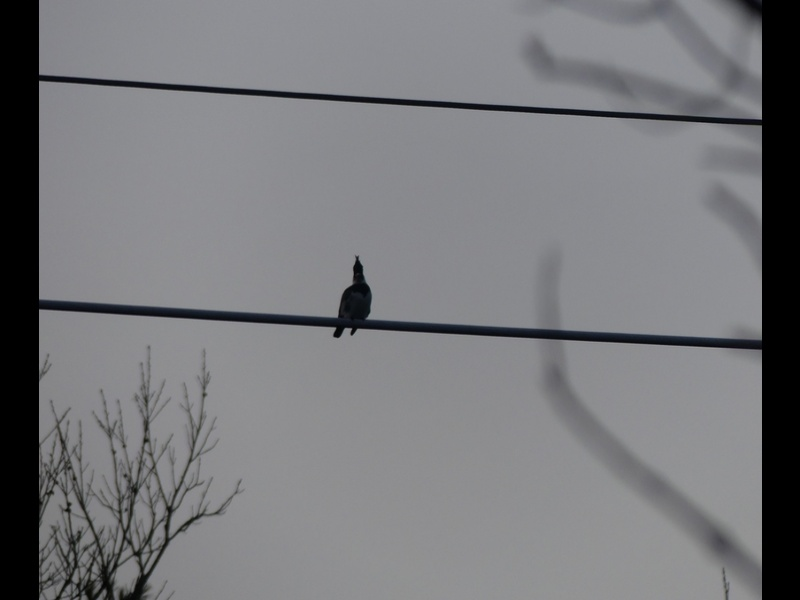kingfisher: (329, 254, 375, 340)
